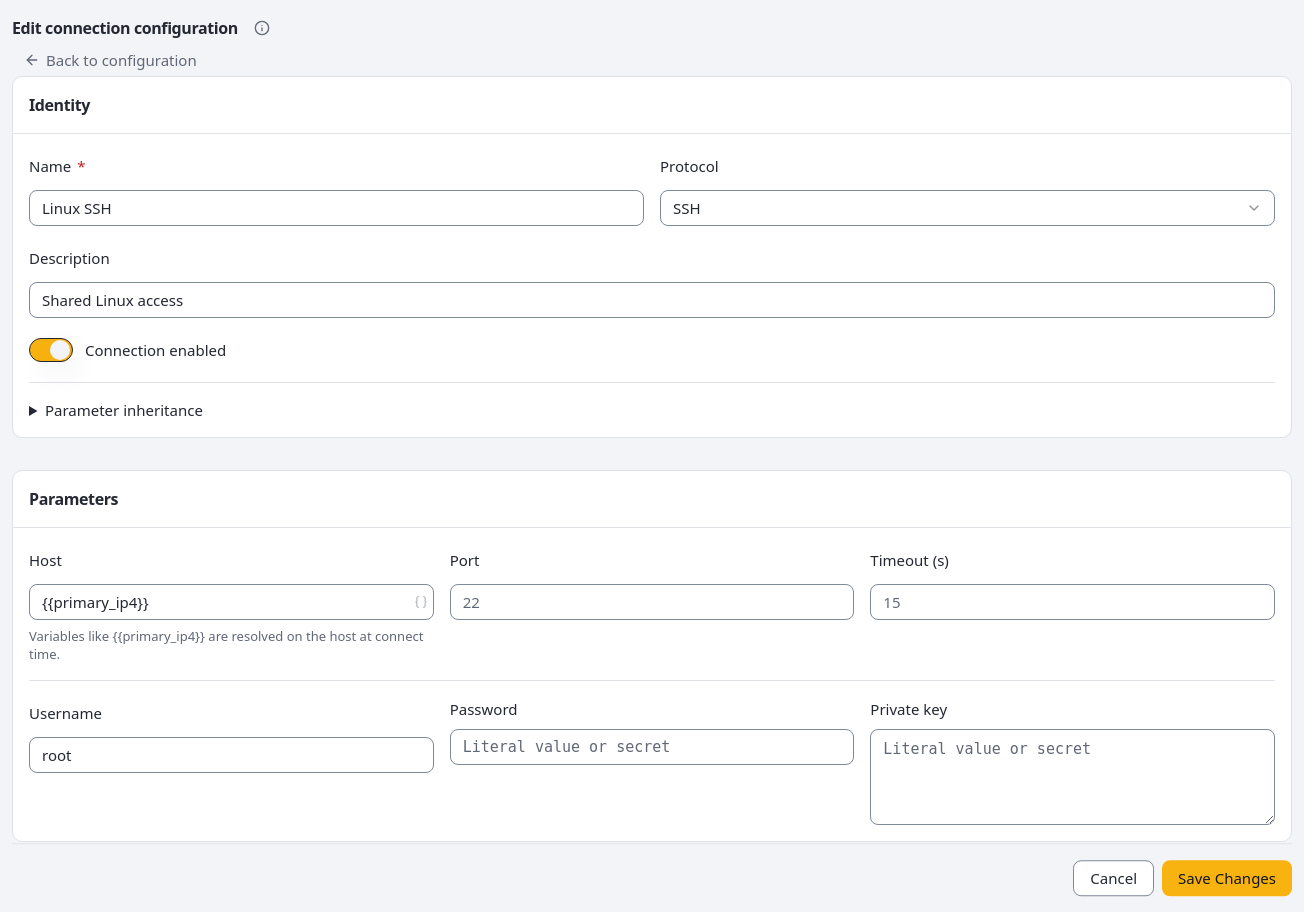
Test: connection configuration pages › saves the enabled state through the standard editor
The image size is (1304, 912).
Click the switch named "Connection enabled" at x=51, y=350, box [29,338,73,362]
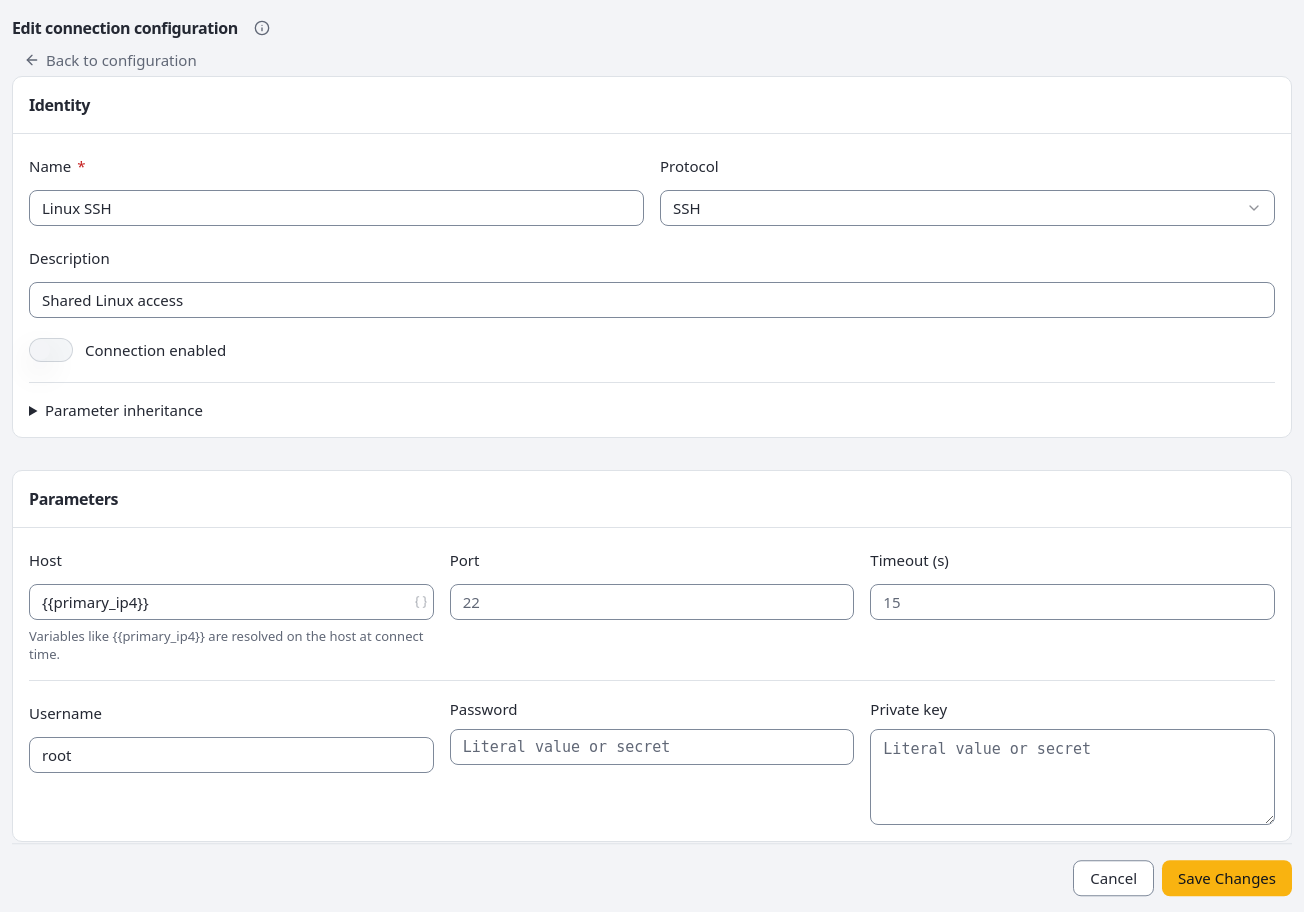
Click the button "Save Changes" at x=1227, y=878, box [1162,860,1292,896]
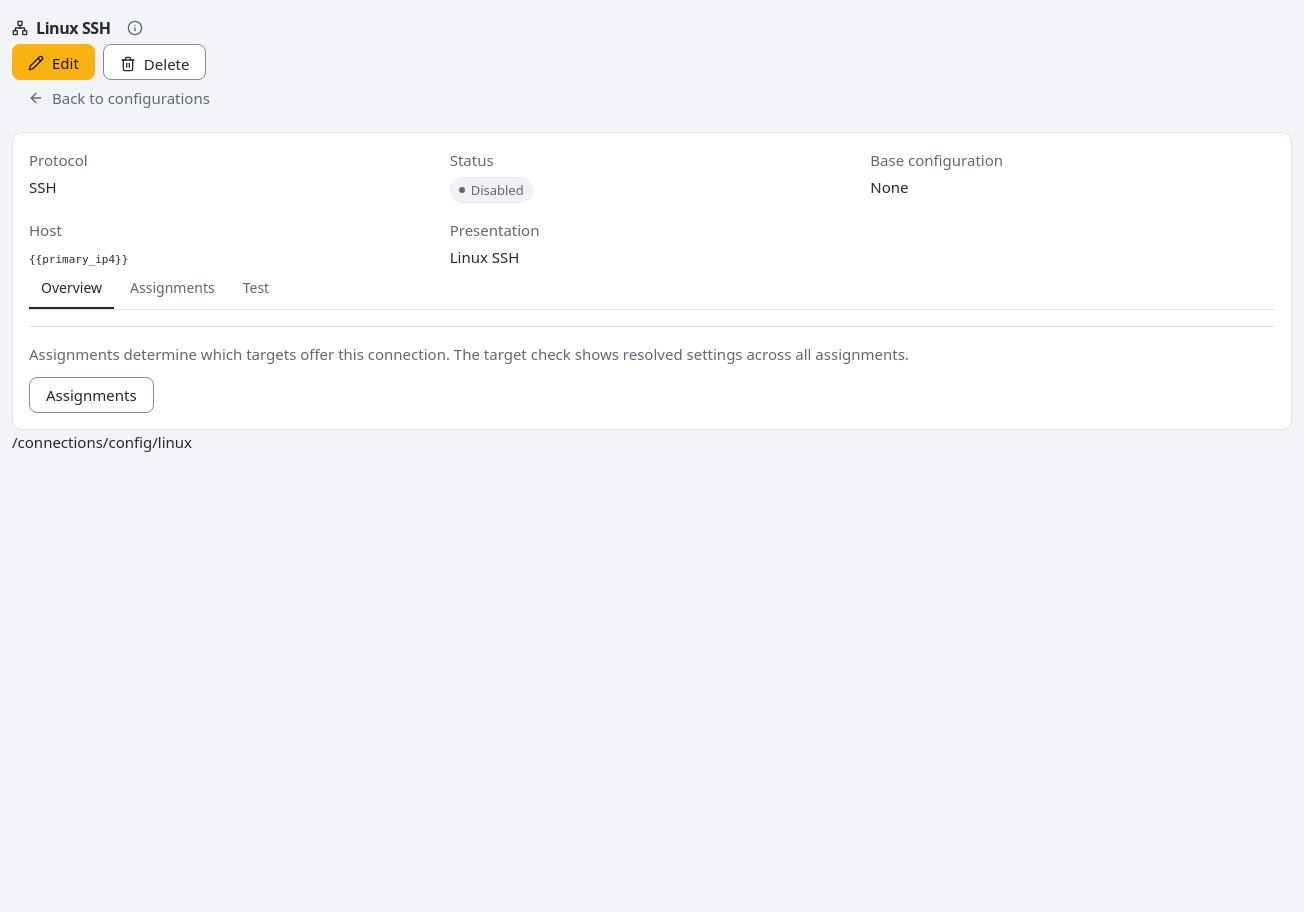
Result: the heading "Linux SSH" is shown at [36,16,111,40]
